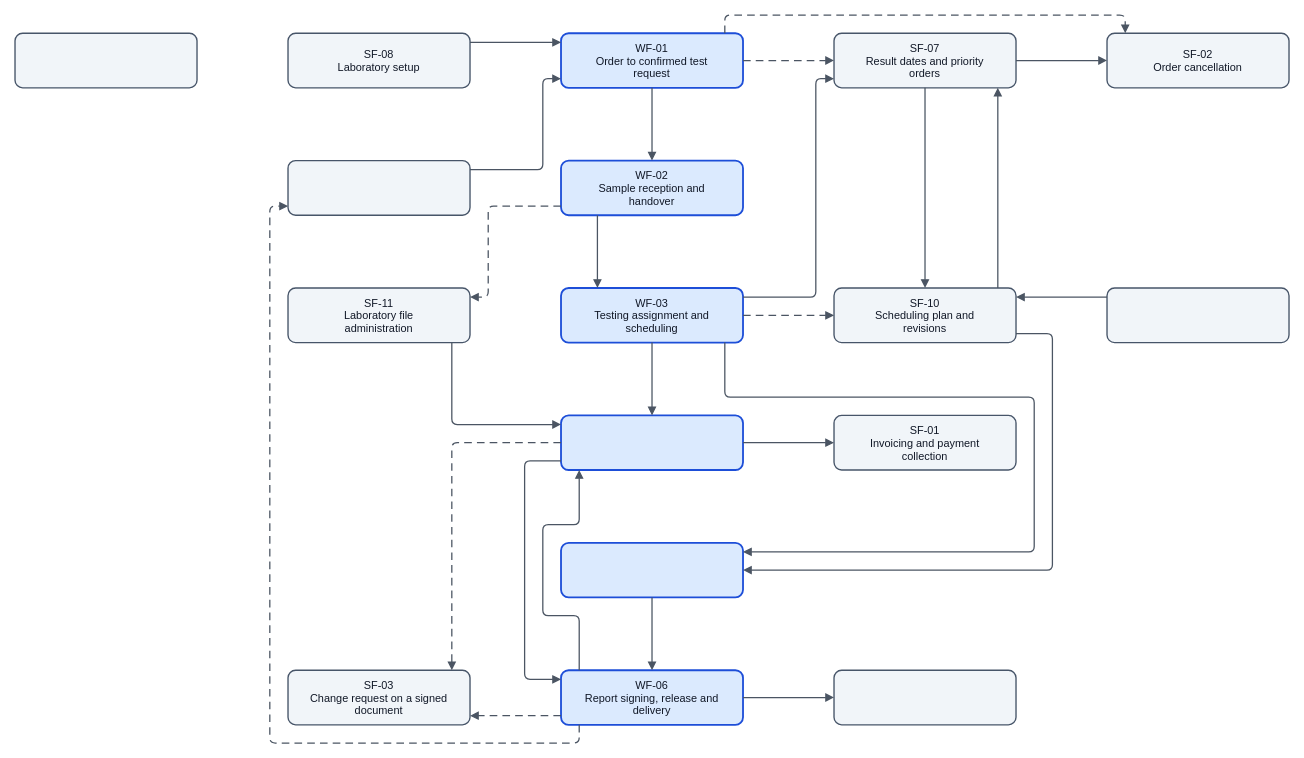
This 1304x758 diagram has some shape labels left out. The shapes that lost their labels are listed below. From the top down, each one's centre as x and y in pixels, then its label:
At (105,60): "SF-06 Accreditation and registration renewal".
At (378,187): "SF-09 Customer support and feedback".
At (1197,315): "SF-05 Machine calibration and unavailability".
At (651,442): "WF-04 Result entry and approval".
At (651,569): "WF-05 Outsourced testing".
At (924,697): "SF-04 Sample retention, return and disposal".
